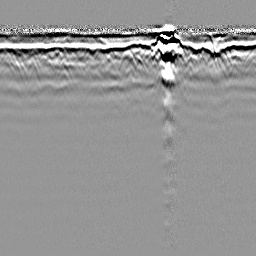cavity: (117, 47, 136, 74)
